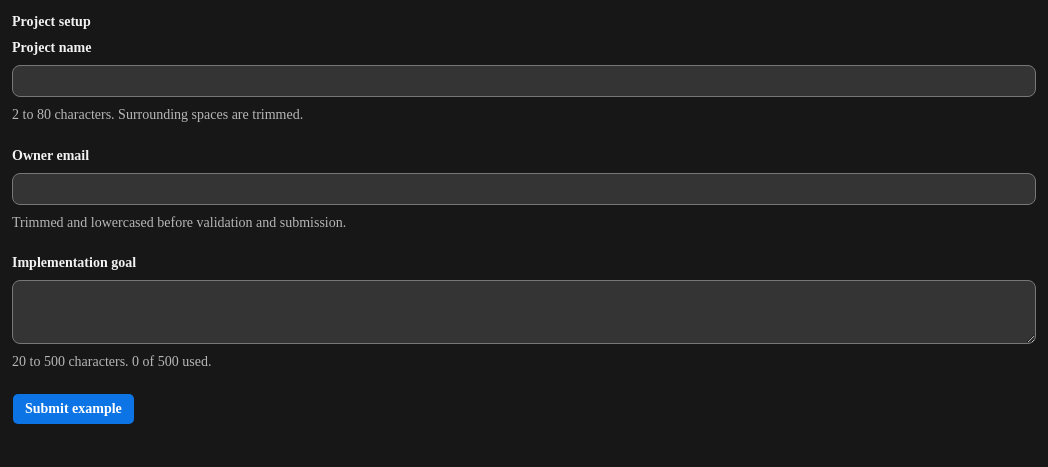
ReferenceForm — live locale › switches labels, actions, and EXISTING errors without losing entered values
This screenshot has width=1048, height=467.
Step 1. Type "A" into the field labelled "Project name" → x=524, y=81, box top-left (12, 65), bottom-right (1036, 97)
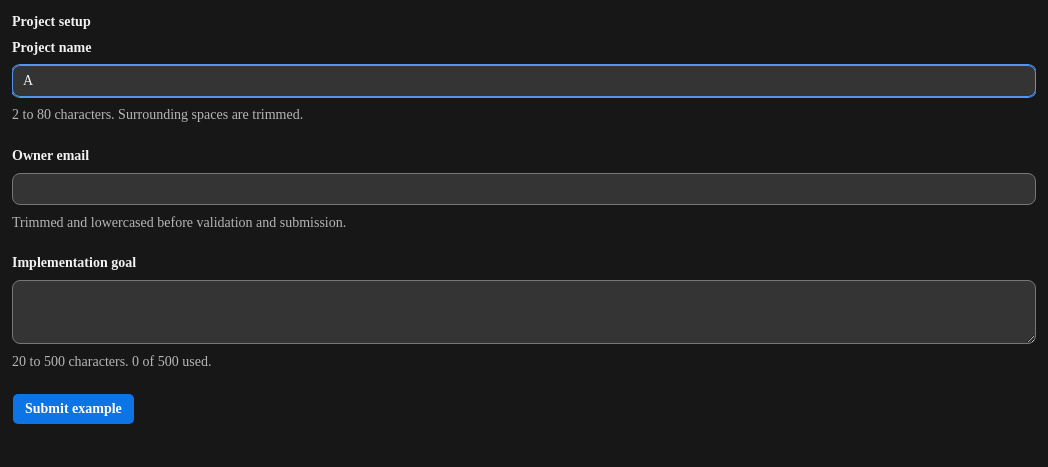
Step 2. Type "owner@example.com" into the field labelled "Owner email" → x=524, y=189, box top-left (12, 173), bottom-right (1036, 205)
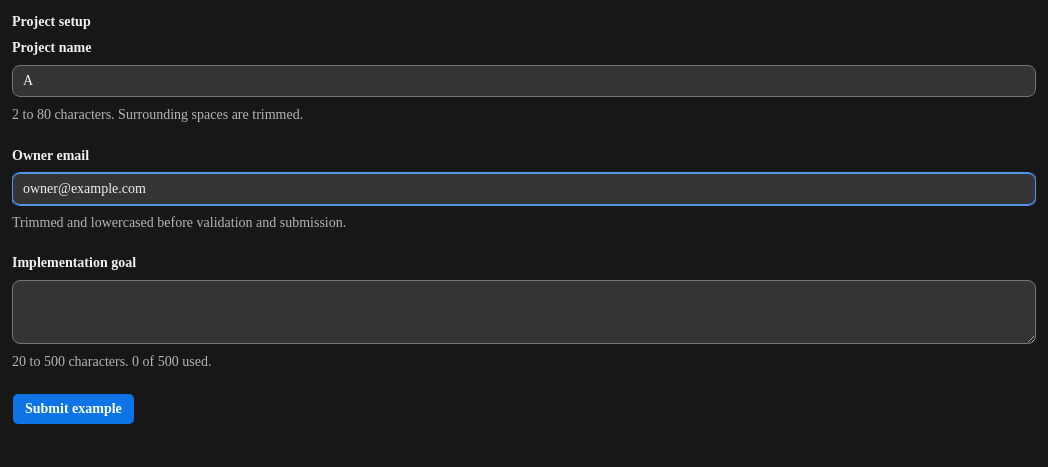
Step 3. Type "Prove the reference wiring end to end." into the text box labelled "Implementation goal" → x=524, y=312, box top-left (12, 280), bottom-right (1036, 344)
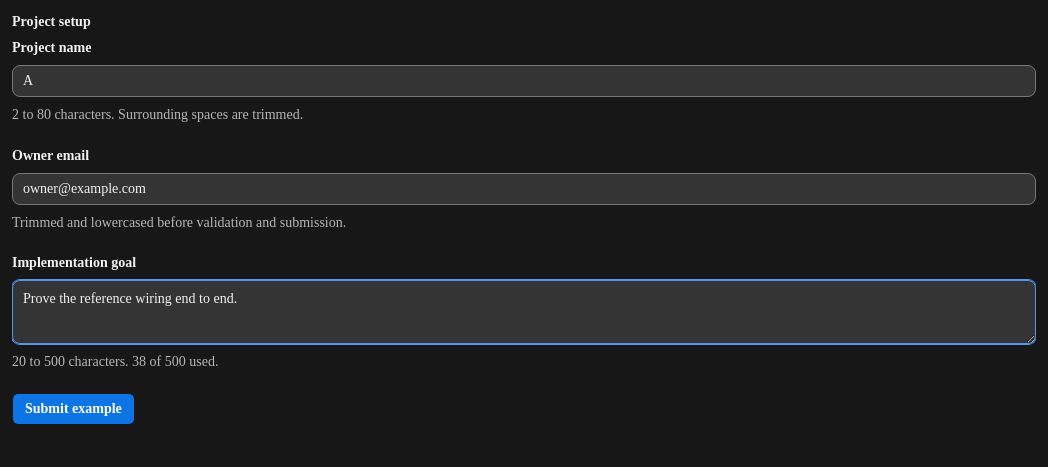
Step 4. Click the button → x=73, y=409, box top-left (12, 393), bottom-right (135, 425)
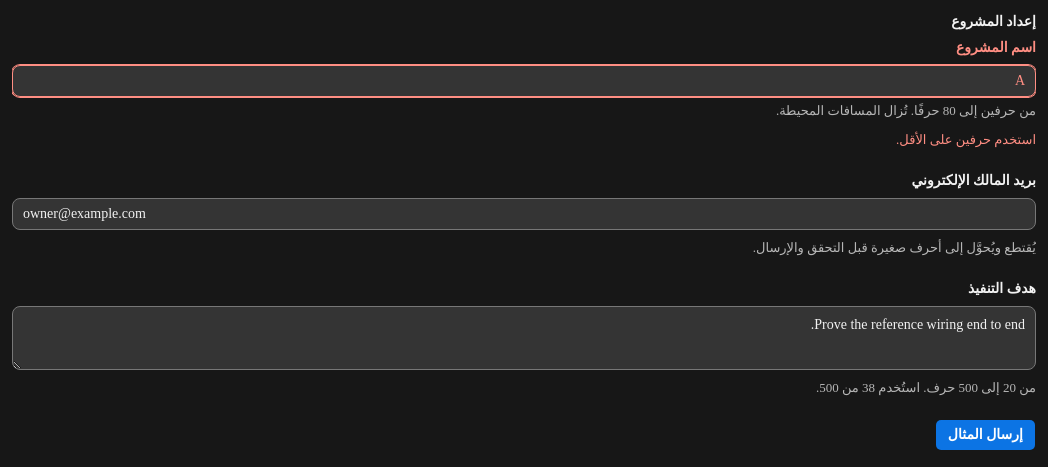
Result: the button "إرسال المثال" is shown at top-left (935, 419), bottom-right (1036, 451)
Result: the text "استخدم حرفين على الأقل." is shown at top-left (896, 132), bottom-right (1036, 147)
